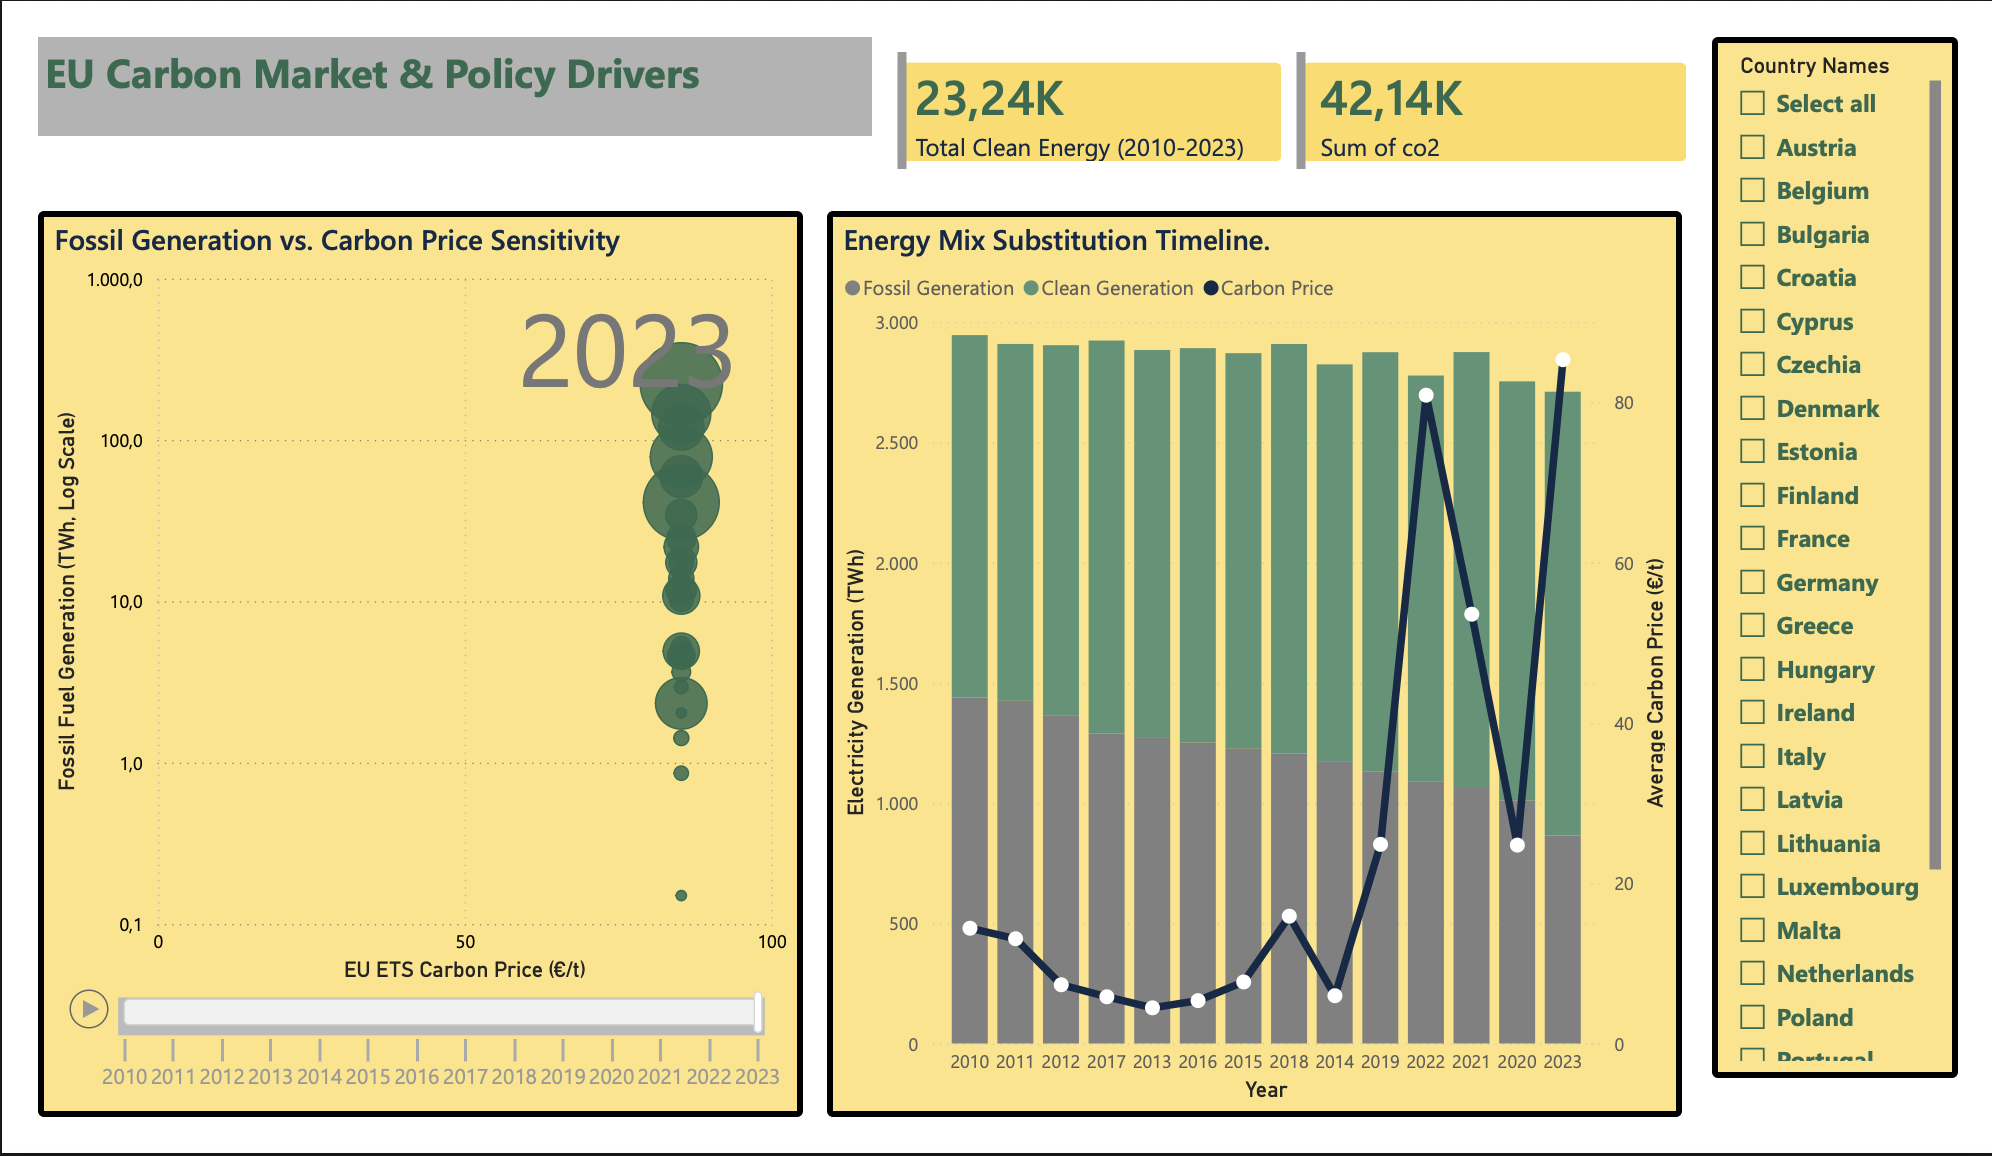

The dashboard page shown, as its layout file describes it:
{"tool":"powerbi","page":{"name":"Transition Dynamics","canvas":[1280,720],"ordinal":1},"visuals":[{"type":"textbox","box":[0,0,556,66],"z":0},{"type":"slicer","fields":{"Values":["master_panel_data.country_name"]},"box":[1116,0,164,694],"z":1000},{"type":"scatterChart","title":"Fossil Generation vs. Carbon Price Sensitivity","fields":{"X":["Avg(master_panel_data.carbon_price_eur_tonne)"],"Y":["Sum(master_panel_data.elec_gen_fossil_twh)"],"Category":["master_panel_data.country_name"],"Size":["Sum(master_panel_data.elec_gen_total_twh)"],"Play":["master_panel_data.year"]},"box":[0,116,510,604],"z":2000},{"type":"lineStackedColumnComboChart","title":"Energy Mix Substitution Timeline.","fields":{"Category":["master_panel_data.year"],"Y":["Sum(master_panel_data.elec_gen_fossil_twh)","Sum(master_panel_data.elec_gen_clean_twh)"],"Y2":["Avg(master_panel_data.carbon_price_eur_tonne)"]},"box":[526,116,570,604],"z":3000},{"type":"cardVisual","fields":{"Data":["Sum(master_panel_data.elec_gen_clean_twh)"]},"box":[556,0,290,100],"z":4000},{"type":"cardVisual","fields":{"Data":["Sum(master_panel_data.co2)"]},"box":[826,0,290,100],"z":5000},{"type":"shape","box":[436,10,280,78],"z":6000},{"type":"shape","box":[702,10,280,78],"z":7000}]}

Visuals, with their boxes in screenshot pixels (x1, y1, x2, y2):
textbox: [57,42,880,139]
slicer - master_panel_data.country_name: [1709,42,1952,1069]
"Fossil Generation vs. Carbon Price Sensitivity" scatterChart: [57,213,812,1107]
"Energy Mix Substitution Timeline." lineStackedColumnComboChart: [836,213,1680,1107]
cardVisual - Sum(master_panel_data.elec_gen_clean_twh): [880,42,1309,190]
cardVisual - Sum(master_panel_data.co2): [1280,42,1709,190]
shape: [702,56,1117,172]
shape: [1096,56,1511,172]
